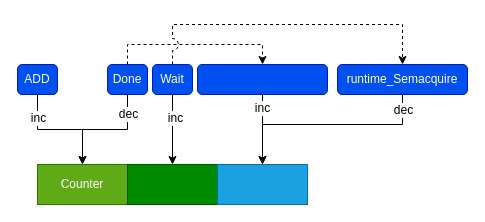
This 485x222 diagram has some shape labels left out. The centre of each missing label's shape, as x and y in pixels:
runtime_Semrelease: pixel 262 79
Semap: pixel 262 184
Waiter: pixel 172 184
